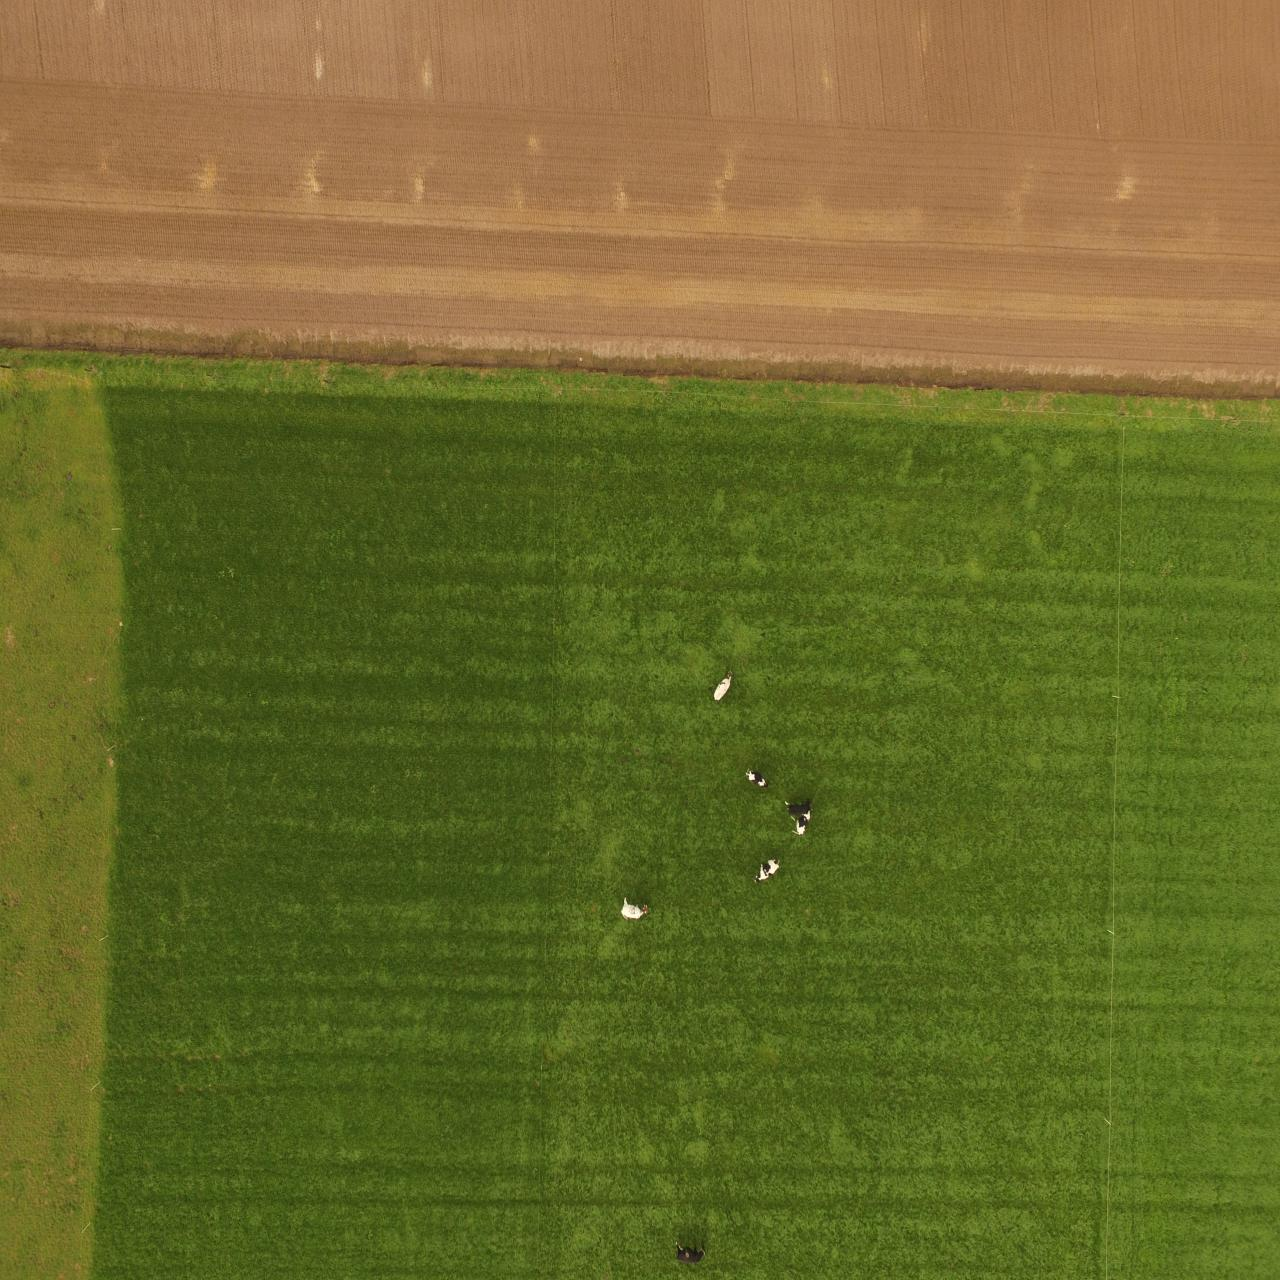cow: (709, 669, 737, 706), (670, 1240, 707, 1265), (619, 896, 652, 922), (751, 857, 783, 884), (744, 764, 770, 790), (801, 805, 812, 839), (783, 801, 810, 813)
